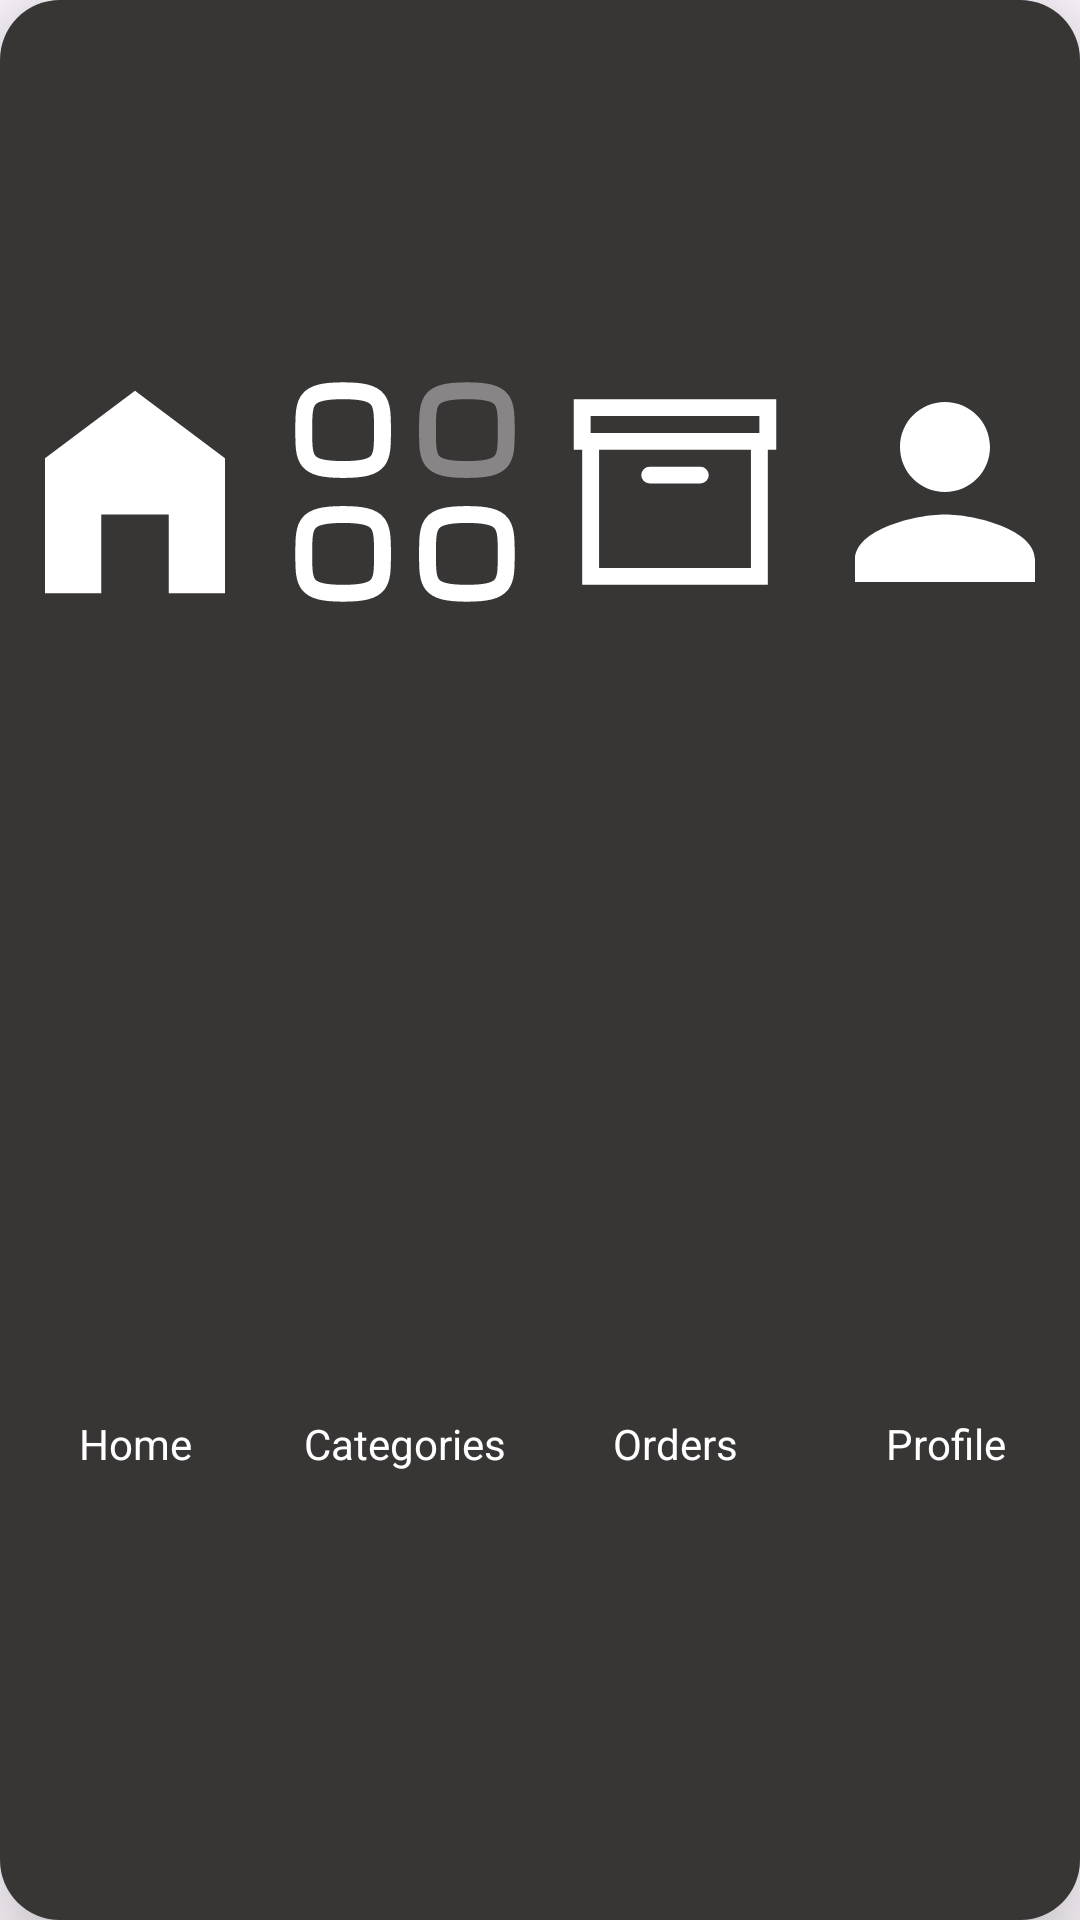

Icons on this 1080px x 1920px Android screen, each with the point to tap as (x=x, y=y):
category: (x=405, y=492)
orderbox: (x=675, y=492)
person: (x=945, y=492)
